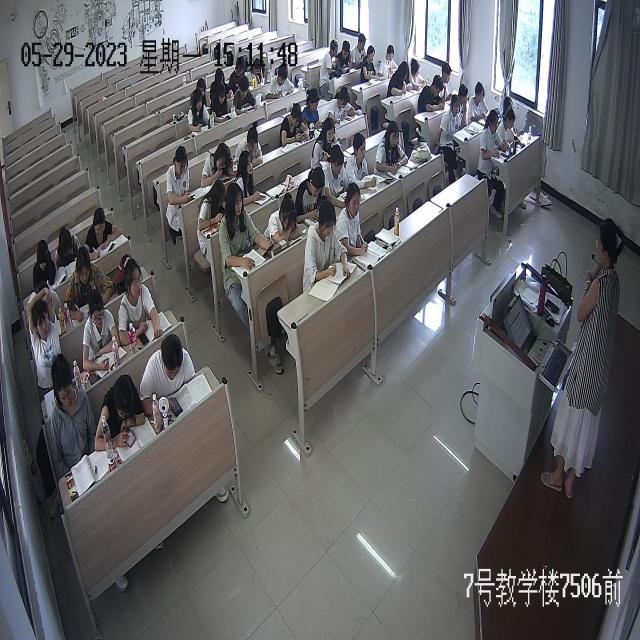distracted: (50, 354, 96, 462), (320, 40, 339, 79), (336, 40, 352, 74)
focused: (118, 254, 164, 343), (304, 196, 352, 281), (66, 248, 117, 319), (28, 290, 64, 390), (83, 288, 121, 369), (337, 183, 368, 255), (374, 120, 409, 173), (84, 206, 122, 254), (347, 133, 378, 190), (480, 110, 510, 159), (236, 150, 263, 204), (311, 118, 341, 166), (31, 240, 57, 293), (437, 94, 465, 140), (236, 122, 263, 169), (496, 110, 525, 150), (53, 227, 81, 267), (265, 62, 296, 98), (418, 74, 446, 111), (468, 79, 491, 122), (233, 76, 259, 112), (386, 60, 412, 94), (377, 43, 401, 79), (360, 46, 380, 83), (228, 55, 248, 88), (440, 60, 456, 100), (456, 84, 471, 125), (246, 58, 264, 89), (352, 34, 369, 66), (502, 95, 513, 122)
sleep: (265, 191, 302, 246)
using_phone: (141, 332, 197, 424), (220, 182, 275, 268), (95, 374, 147, 452), (167, 145, 195, 208), (196, 178, 228, 232), (200, 142, 236, 188), (325, 144, 352, 204), (296, 165, 324, 222), (280, 100, 312, 146), (329, 84, 357, 126), (188, 89, 214, 133), (302, 89, 327, 132), (210, 82, 234, 126), (209, 69, 235, 101), (407, 58, 430, 89)
